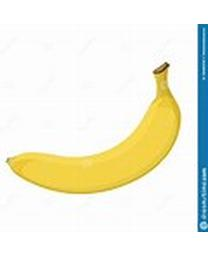banana: (6, 60, 184, 193)
